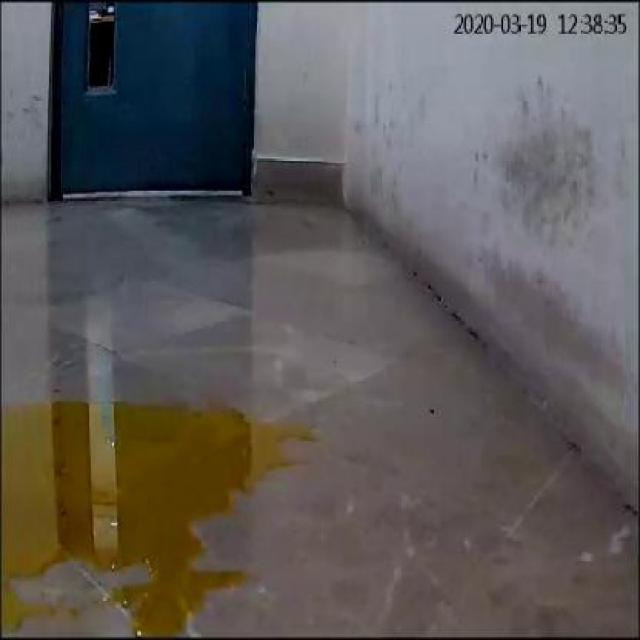spill: (7, 399, 307, 630)
